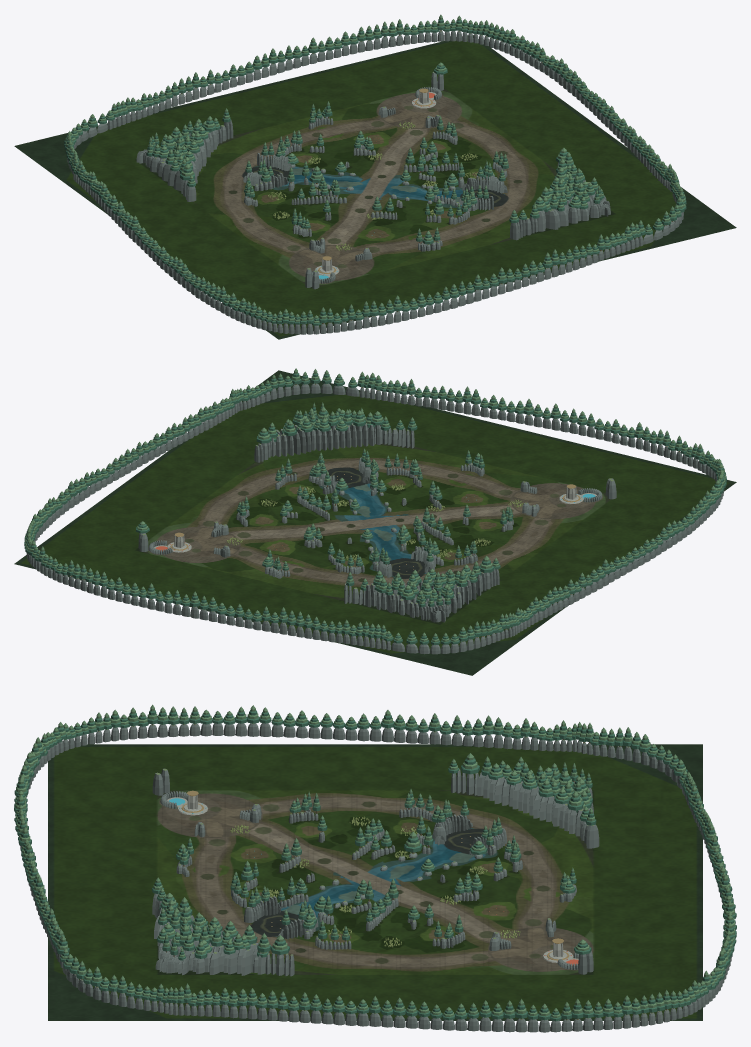
The model's file is esmo-rift.glb.
3 renders of one model, top to bottom at view 1: azimuth 30°, elevation 25°; view 2: azimuth 150°, elevation 25°; view 3: azimuth 270°, elevation 25°, orthographic. The views are drawn at different scales.
Parts seen in each view (by area): view 1: Rift_Ground, Rift_rock_(0, 3), Rift_rock_(3, 0), Rift_rock_(2, 3), Rift_rock_(2, 2), Rift_rock_(1, 0), Rift_pine_(3, 0), Rift_rock_(1, 1), Rift_pine_(0, 3), Rift_leaf_(3, 0), Rift_rock_(1, 3), Rift_rock_(2, 0) (+27 smaller); view 2: Rift_Ground, Rift_rock_(2, 3), Rift_rock_(0, 0), Rift_rock_(1, 0), Rift_rock_(3, 2), Rift_pine_(0, 0), Rift_rock_(0, 1), Rift_leaf_(0, 0), Rift_rock_(0, 3), Rift_pine_(2, 3), Rift_rock_(3, 0), Rift_rock_(3, 3) (+33 smaller); view 3: Rift_Ground, Rift_rock_(3, 2), Rift_rock_(0, 1), Rift_rock_(3, 3), Rift_rock_(0, 3), Rift_rock_(3, 0), Rift_pine_(3, 3), Rift_rock_(2, 2), Rift_pine_(3, 2), Rift_rock_(1, 1), Rift_pine_(0, 1), Rift_pine_(3, 0) (+35 smaller).
Part boxes in pixels (x1,y1,x2,y2): Rift_Ground: [14, 34, 736, 339]; Rift_rock_(0, 3): [195, 268, 401, 334]; Rift_rock_(3, 0): [349, 31, 554, 99]; Rift_rock_(2, 3): [510, 200, 620, 289]; Rift_rock_(2, 2): [390, 162, 507, 224]; Rift_rock_(1, 0): [130, 77, 237, 166]; Rift_pine_(3, 0): [350, 19, 555, 74]; Rift_rock_(1, 1): [243, 143, 355, 206]; Rift_pine_(0, 3): [192, 280, 402, 325]; Rift_leaf_(3, 0): [349, 14, 555, 71]; Rift_rock_(1, 3): [355, 240, 513, 320]; Rift_rock_(2, 0): [237, 45, 395, 129]; Rift_Ground: [14, 370, 736, 675]; Rift_rock_(2, 3): [327, 392, 515, 450]; Rift_rock_(0, 0): [363, 588, 530, 654]; Rift_rock_(1, 0): [235, 581, 422, 646]; Rift_rock_(3, 2): [136, 413, 327, 467]; Rift_pine_(0, 0): [361, 576, 533, 644]; Rift_rock_(0, 1): [431, 568, 614, 624]; Rift_leaf_(0, 0): [362, 572, 532, 642]; Rift_rock_(0, 3): [578, 438, 724, 534]; Rift_pine_(2, 3): [327, 383, 515, 431]; Rift_rock_(3, 0): [26, 504, 172, 599]; Rift_rock_(3, 3): [221, 383, 387, 439]; Rift_Ground: [48, 744, 702, 1020]; Rift_rock_(3, 2): [209, 930, 380, 1026]; Rift_rock_(0, 1): [370, 728, 538, 815]; Rift_rock_(3, 3): [55, 939, 212, 1016]; Rift_rock_(0, 3): [26, 723, 211, 808]; Rift_rock_(3, 0): [539, 951, 732, 1032]; Rift_pine_(3, 3): [51, 923, 214, 1006]; Rift_rock_(2, 2): [231, 878, 377, 949]; Rift_pine_(3, 2): [206, 921, 380, 1013]; Rift_rock_(1, 1): [376, 807, 522, 882]; Rift_pine_(0, 1): [370, 715, 538, 789]; Rift_pine_(3, 0): [538, 935, 736, 1021].
Bounding box in the file's own units: 360 × 23.58 × 364.
11 materials, 1 textured.
